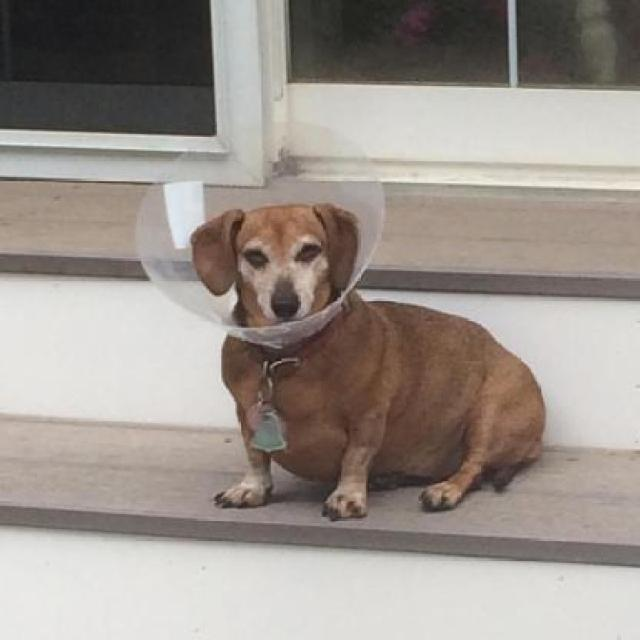Dog: (188, 199, 554, 523)
